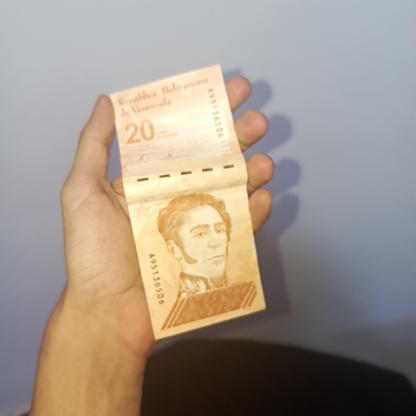twenty-front-vef: (109, 63, 268, 339)
